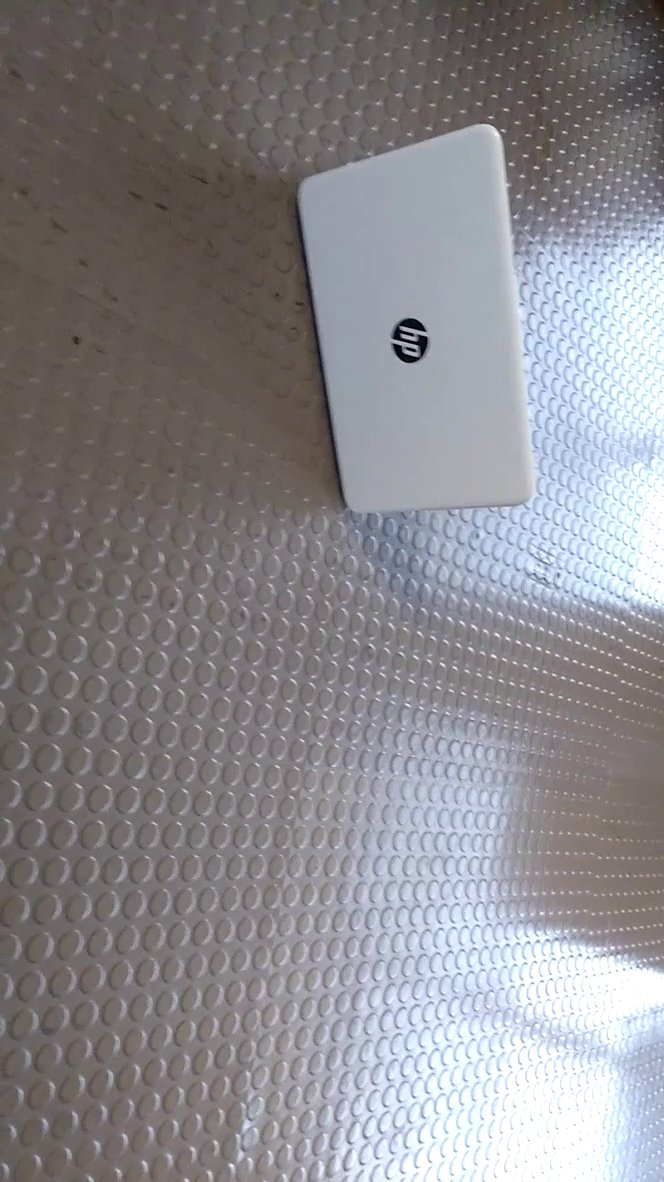laptop: (282, 122, 544, 524)
